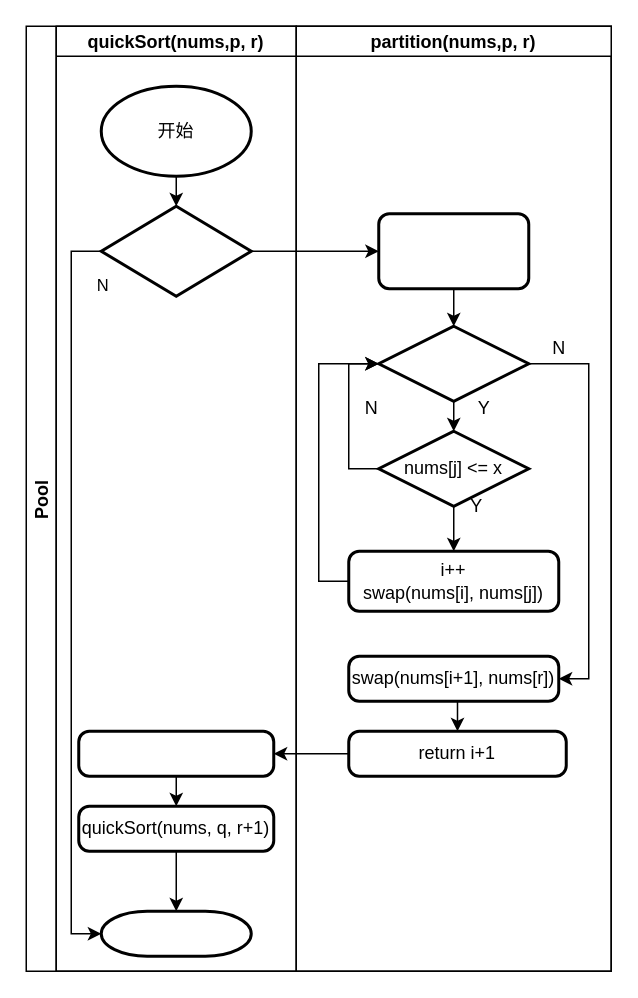
This 638x998 diagram has some shape labels left out. Here are the shapes that lost their labels. From the top down, the centre of each, then its label:
At (175,250): "p < r".
At (453,251): "x = nums[r]; i = p - 1; j = p".
At (453,363): "j < r".
At (175,753): "quickSort(nums, p, q-1)".
At (175,933): "结束".
